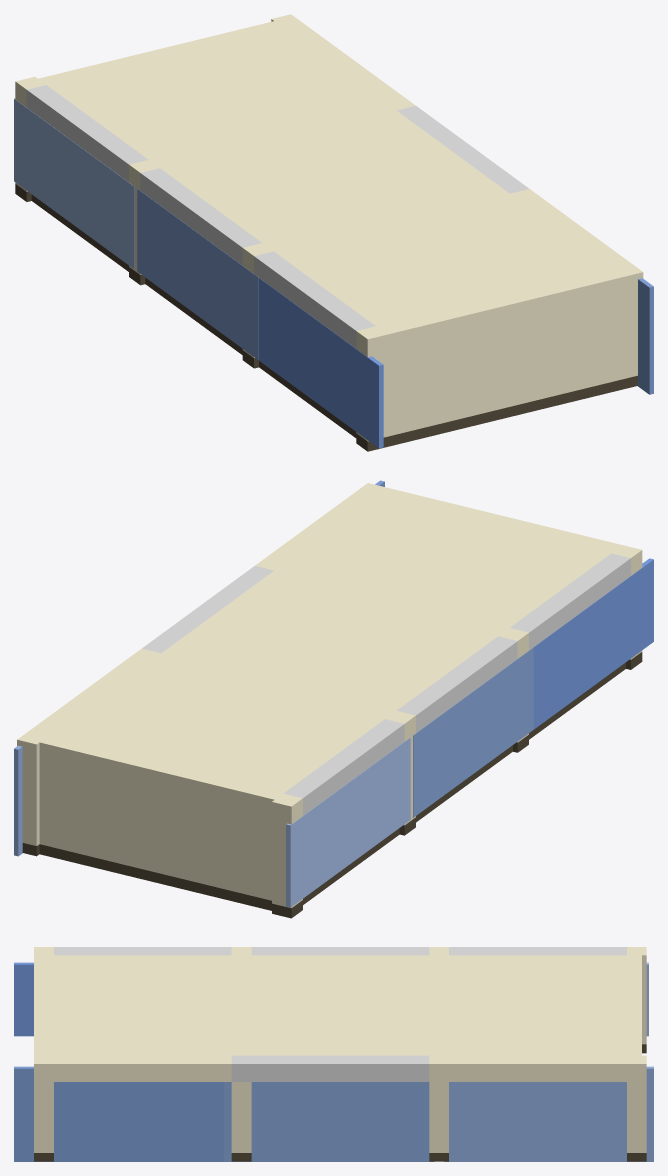
File: clasroom.fbx
3 views of the same model, one above another, from view 1: azimuth 30°, elevation 25°; view 2: azimuth 150°, elevation 25°; view 3: azimuth 270°, elevation 25° (orthographic). The views are drawn at different scales.
Visible parts, largest first — view 1: Chair.015; view 2: Chair.015; view 3: Chair.015.
Part boxes in pixels (x1=…): Chair.015: x1=14, y1=14, x2=653, y2=451; Chair.015: x1=14, y1=480, x2=653, y2=918; Chair.015: x1=14, y1=947, x2=653, y2=1161.
Bounding box in the file's own units: 51618 × 20198 × 119290.
